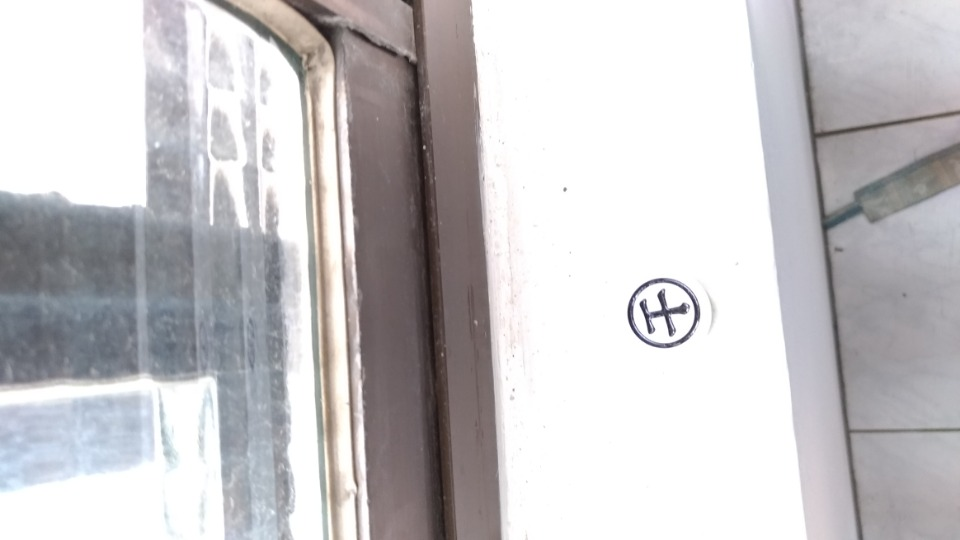b-advisor: (614, 269, 731, 367)
